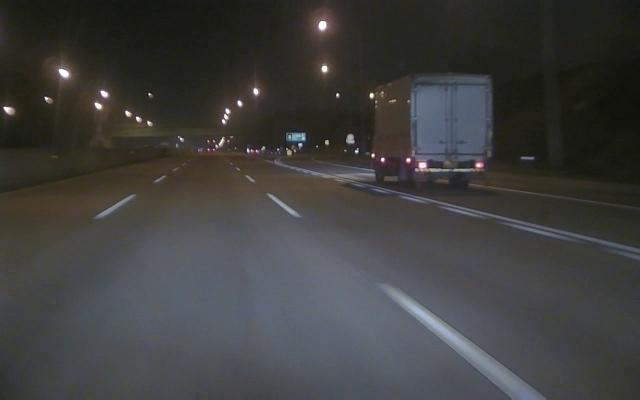lane: (262, 191, 548, 398), (321, 174, 640, 263), (1, 196, 133, 276)
